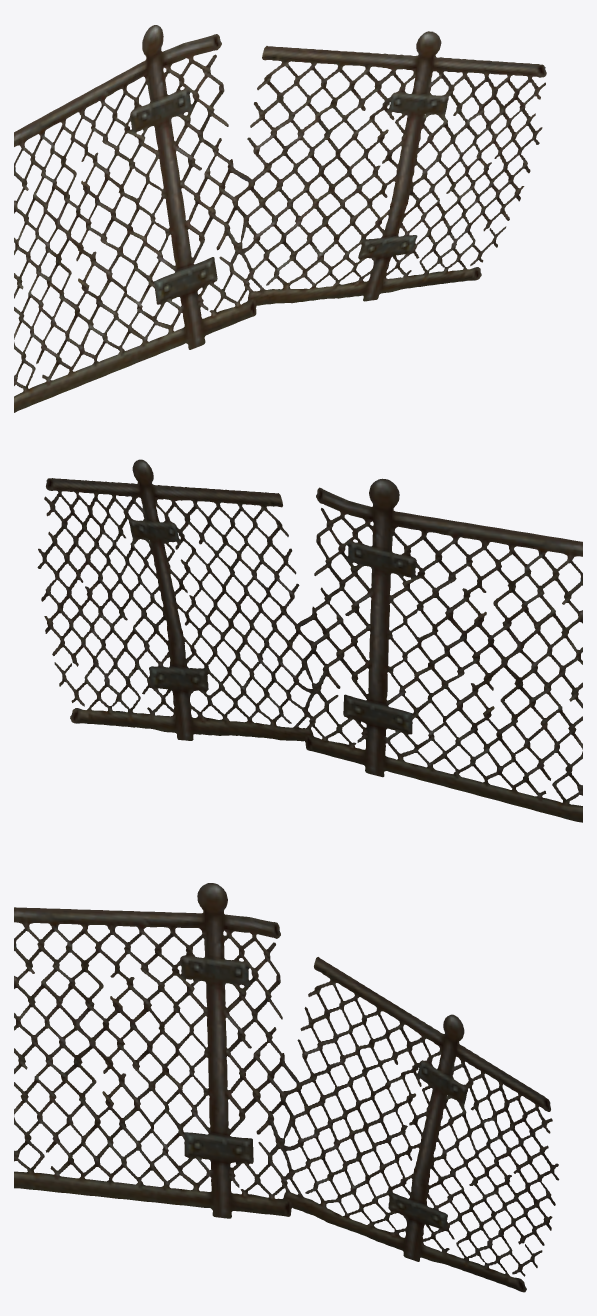
File: obj_zhalan.FBX
3 renders of one model, top to bottom at view 1: azimuth 30°, elevation 25°; view 2: azimuth 150°, elevation 25°; view 3: azimuth 330°, elevation 25°, orthographic.
Parts seen in each view (by area): view 1: obj_zhalan; view 2: obj_zhalan; view 3: obj_zhalan.
Part boxes in pixels (x1=…): obj_zhalan: x1=14, y1=25, x2=546, y2=412; obj_zhalan: x1=37, y1=459, x2=582, y2=822; obj_zhalan: x1=14, y1=883, x2=559, y2=1292.
Bounding box in the file's own units: 147 × 15.26 × 82.86.
